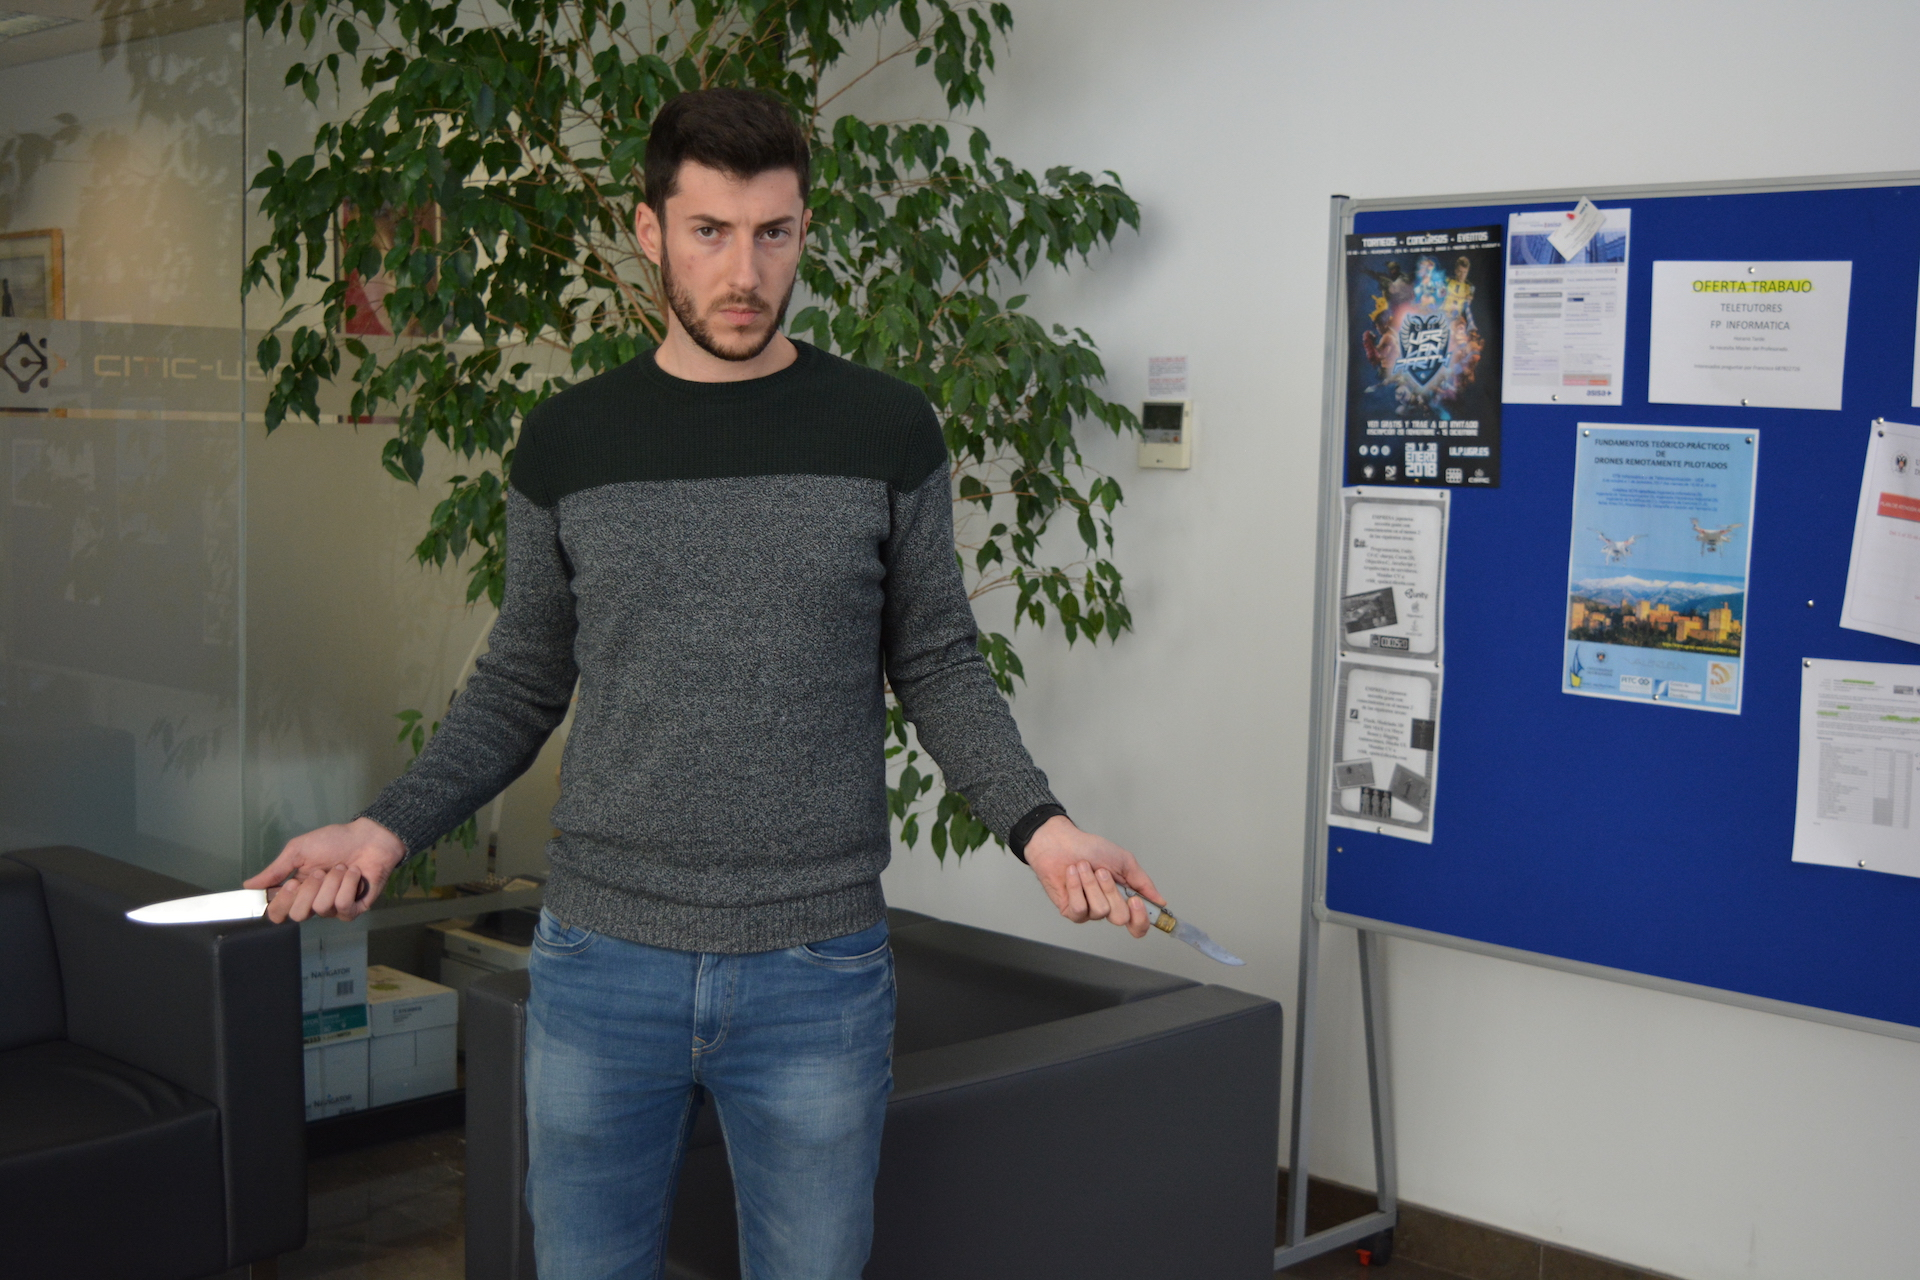knife: (111, 870, 374, 940), (1103, 869, 1257, 976)
